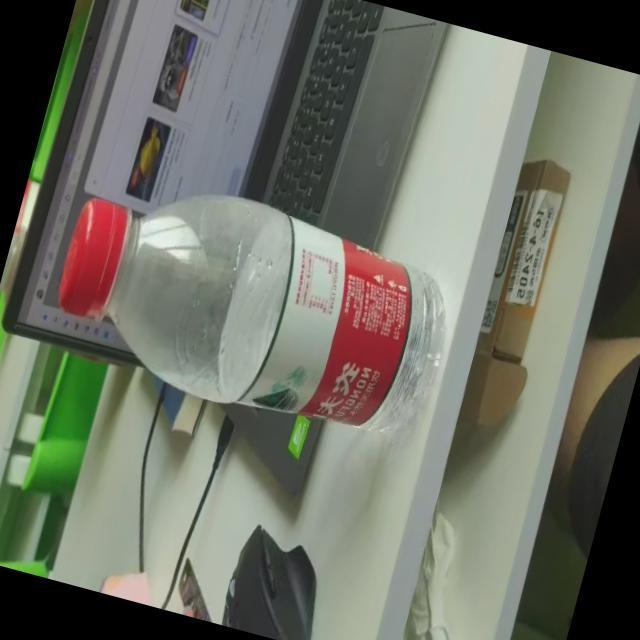good: (33, 158, 470, 458)
